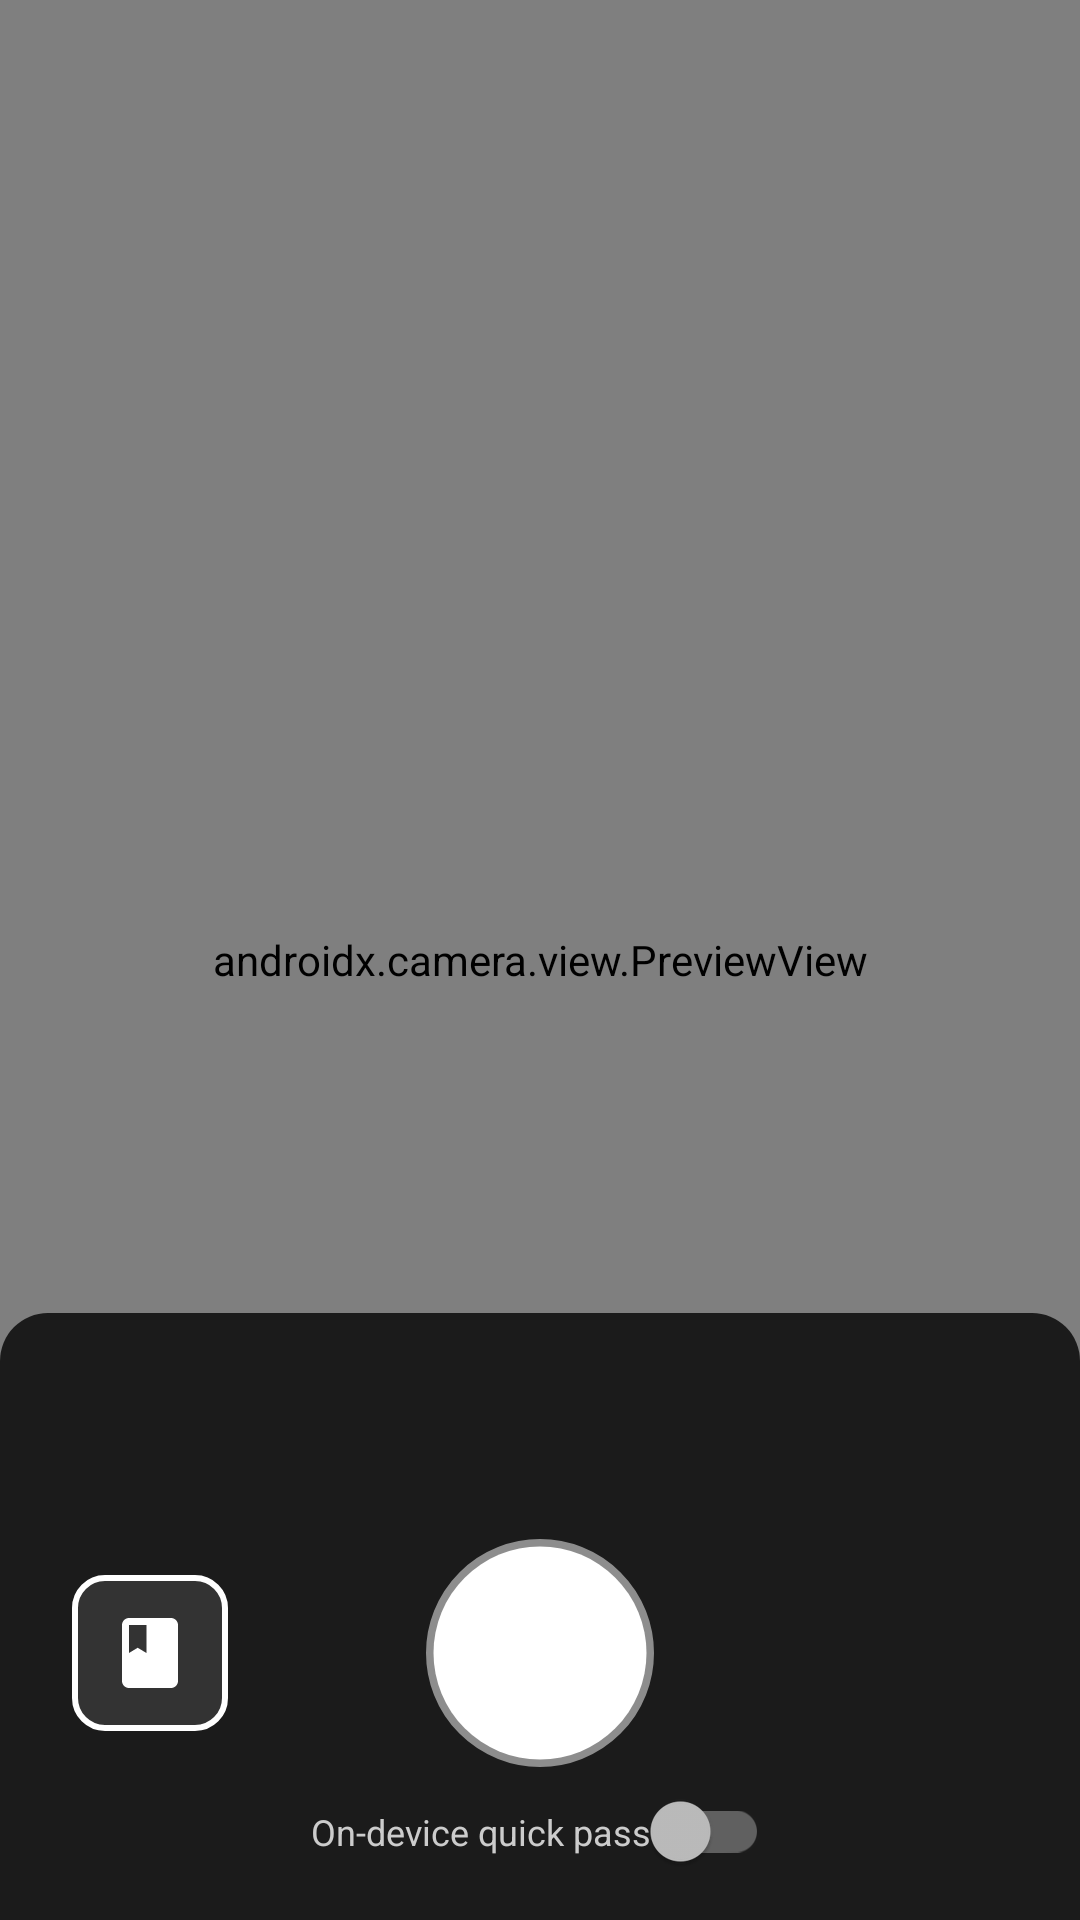

Locate icon controls on the screen. Image size 1080w x 1920h, boxes as (x1, y1, x2, y2).
Take photo: (426, 1539, 654, 1767)
Vocabulary: (72, 1575, 228, 1731)
